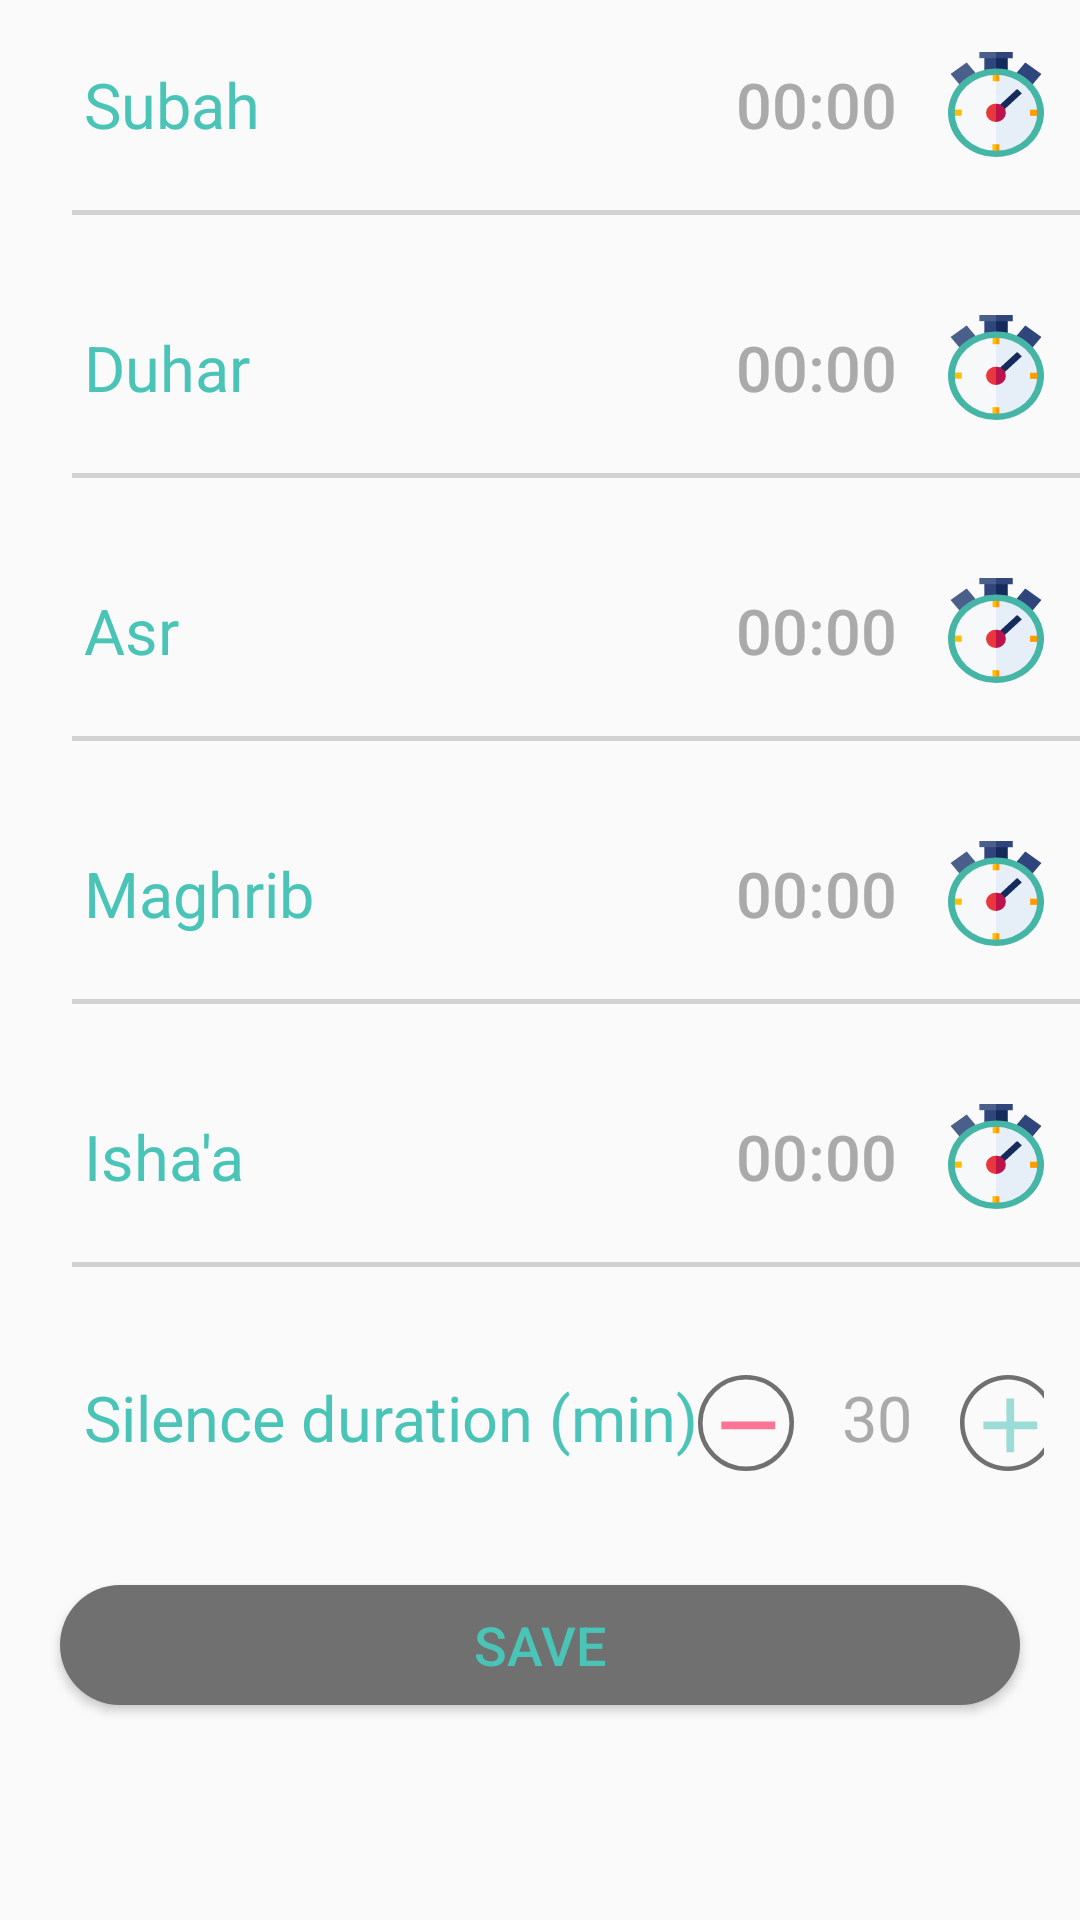

Locate icon controls on the screen. Image size 1080 x 1920, boxes as detection(x1, y1, x2, y2).
minus: detection(698, 1375, 794, 1471)
